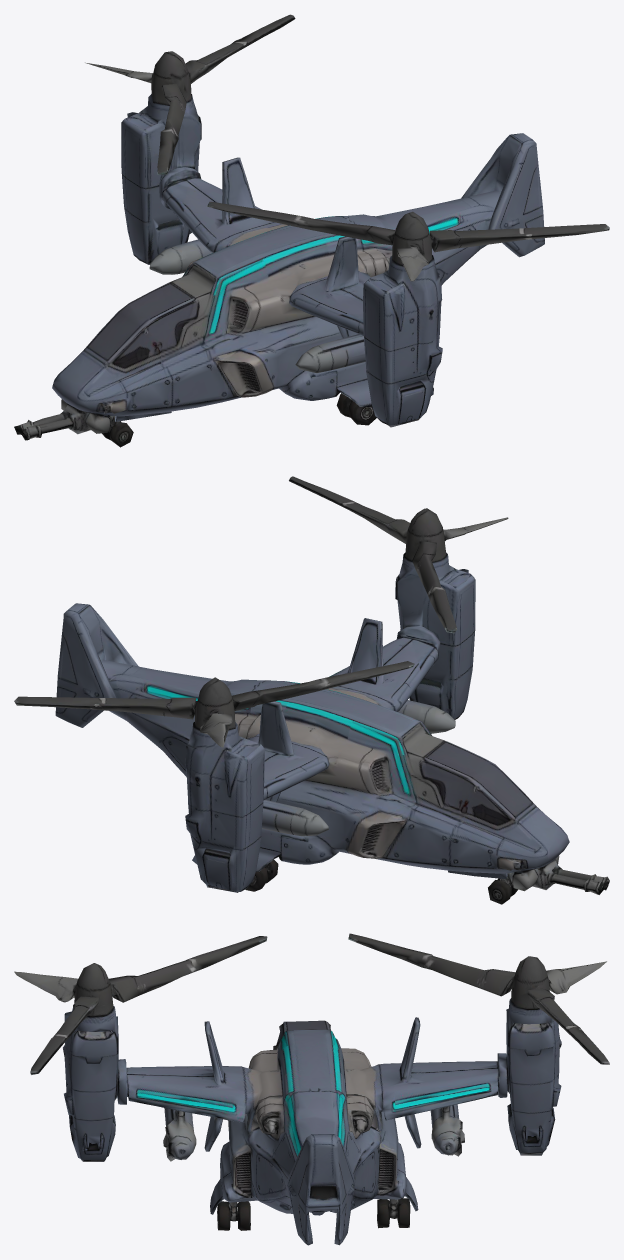
The model's file is Aircraft.glb.
The picture shows the model from 3 angles, top to bottom: view 1: azimuth 30°, elevation 25°; view 2: azimuth 150°, elevation 25°; view 3: azimuth 270°, elevation 25°; orthographic projection. The views are drawn at different scales.
Visible parts, largest first — view 1: tripo_node_f0a10811-5a09-4952-8016-a4885961869d; view 2: tripo_node_f0a10811-5a09-4952-8016-a4885961869d; view 3: tripo_node_f0a10811-5a09-4952-8016-a4885961869d.
Boxes of the visible parts, <box> form: tripo_node_f0a10811-5a09-4952-8016-a4885961869d: <box>14,14,609,447</box>; tripo_node_f0a10811-5a09-4952-8016-a4885961869d: <box>14,476,609,904</box>; tripo_node_f0a10811-5a09-4952-8016-a4885961869d: <box>14,933,609,1245</box>.
Bounding box in the file's own units: 0.9979 × 0.4784 × 1.
1 material, 1 textured.
